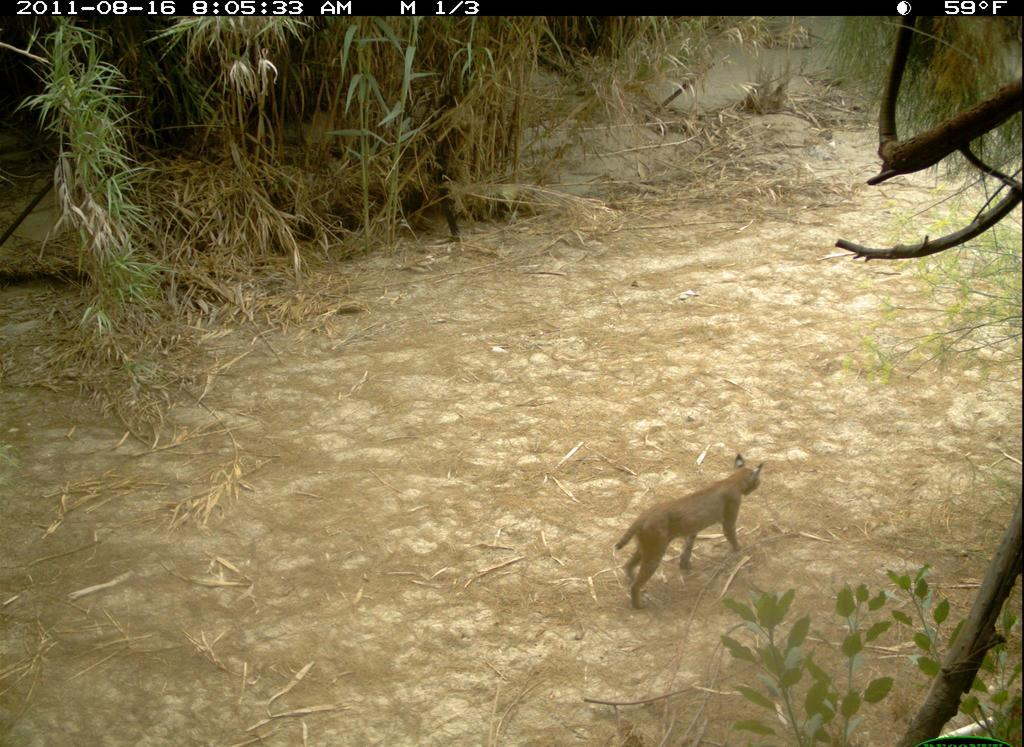bobcat: (612, 454, 783, 616)
